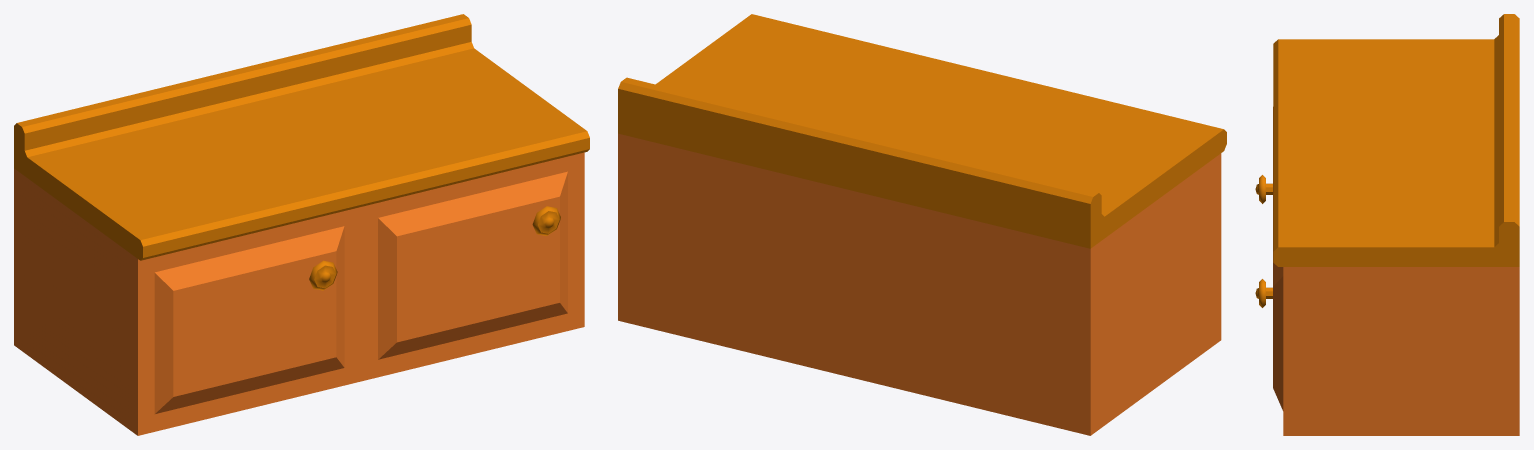
File: Countertop.FBX
3 renders of one model, left to right at view 1: azimuth 30°, elevation 25°; view 2: azimuth 150°, elevation 25°; view 3: azimuth 270°, elevation 25°, orthographic. The views are drawn at different scales.
Visible parts, largest first — view 1: base, top, knob-02, knob-01; view 2: base, top; view 3: top, base, knob-01, knob-02.
Boxes of the visible parts, x1,y1,x2,y2 form: base: (14, 152, 584, 435); top: (14, 14, 589, 260); knob-02: (309, 260, 337, 290); knob-01: (532, 206, 560, 235); base: (618, 133, 1221, 435); top: (618, 14, 1226, 248); top: (1273, 14, 1519, 266); base: (1273, 107, 1519, 435); knob-01: (1255, 279, 1272, 307); knob-02: (1255, 175, 1272, 203).
Size of the model in its own units: 100 by 47.92 by 53.63.
